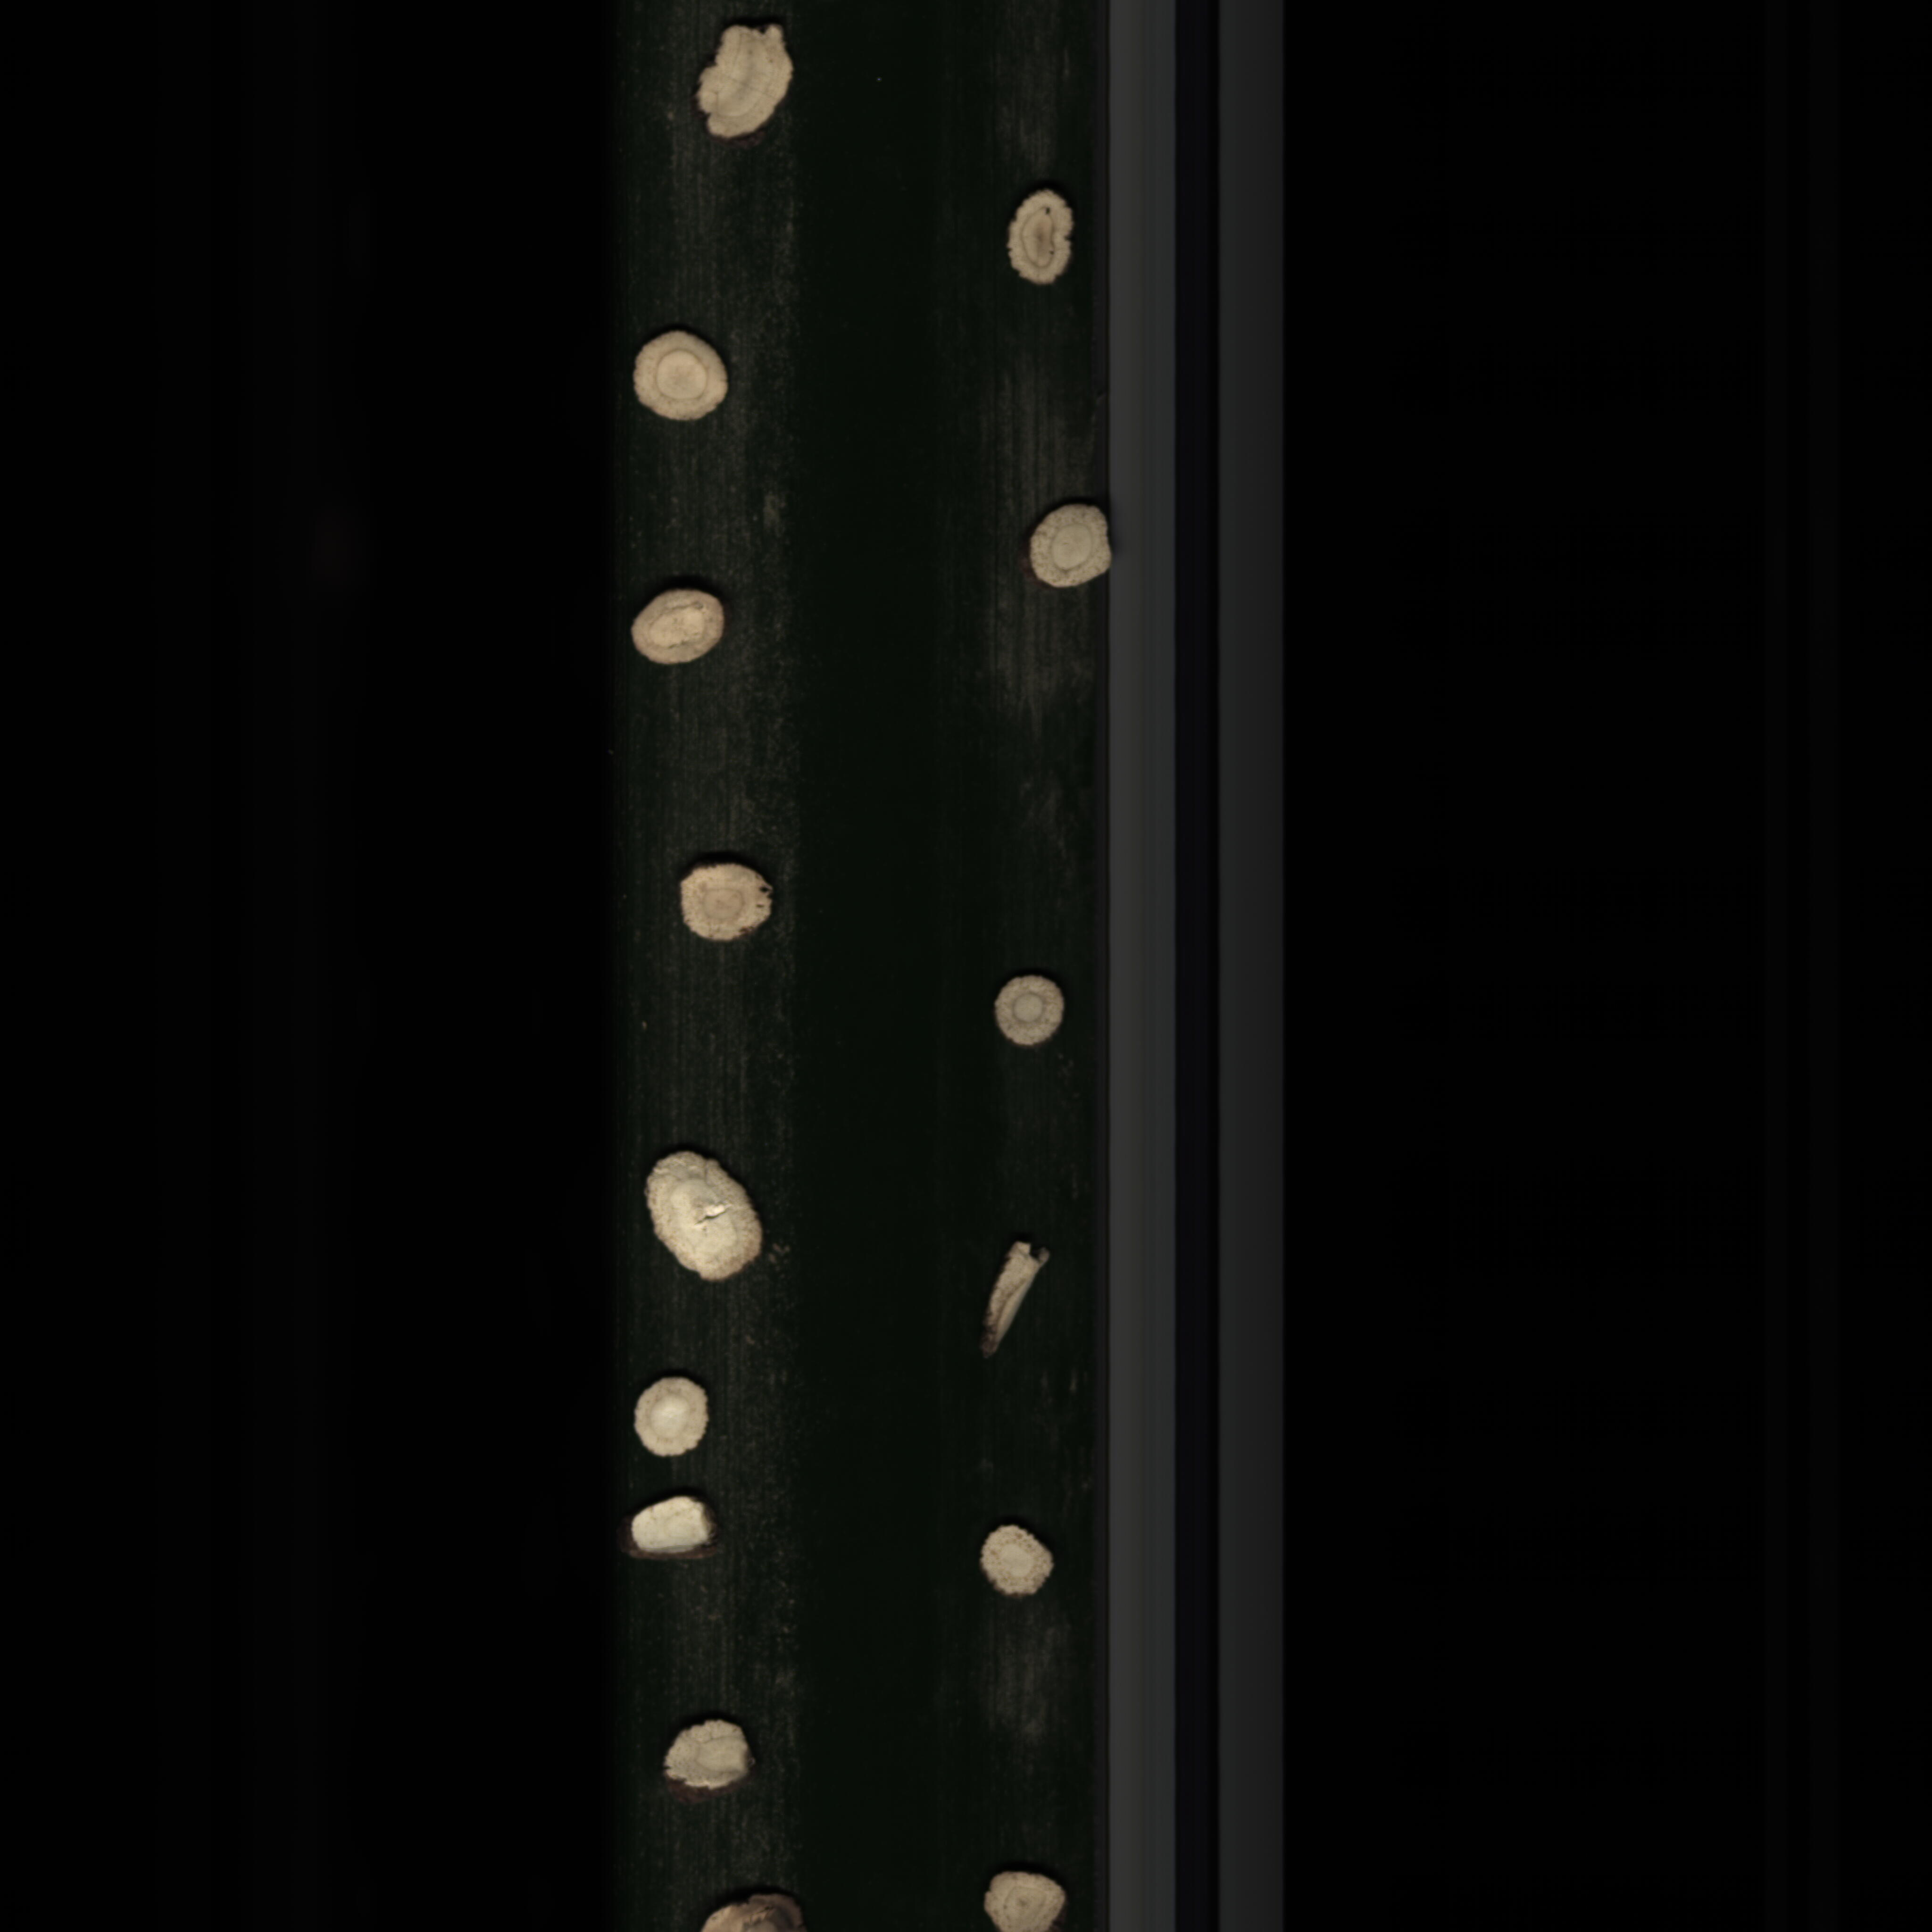distortion: (697, 16, 787, 149)
moldy: (980, 1237, 1056, 1369), (996, 186, 1083, 295)
